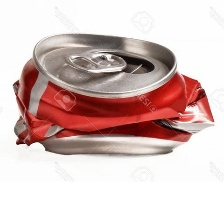can: (6, 27, 219, 163)
